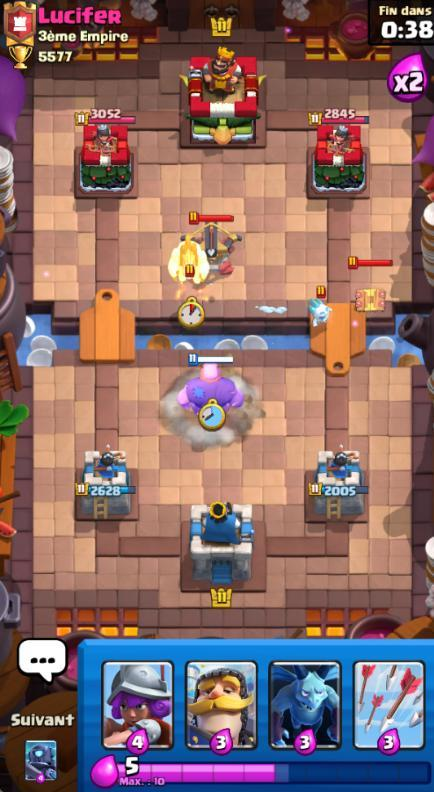enemy_ice_spirit: (303, 286, 336, 331)
enemy_tesla: (344, 253, 396, 314)
enemy_xbow: (176, 193, 251, 278)
player_giant: (171, 350, 250, 414)
